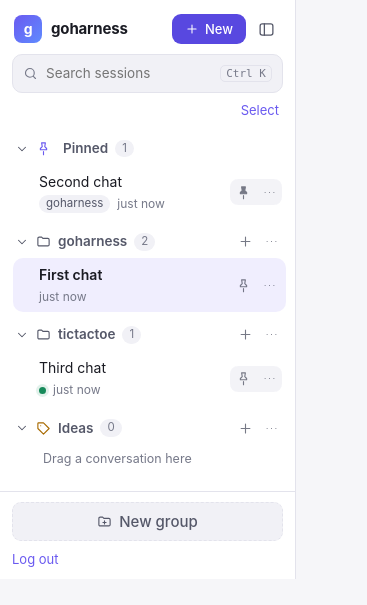
Test: group actions › renames and deletes a group you made, but not a project's
Click the button named "Actions for group Ideas".
click(271, 428)  # box [258,415,284,441]
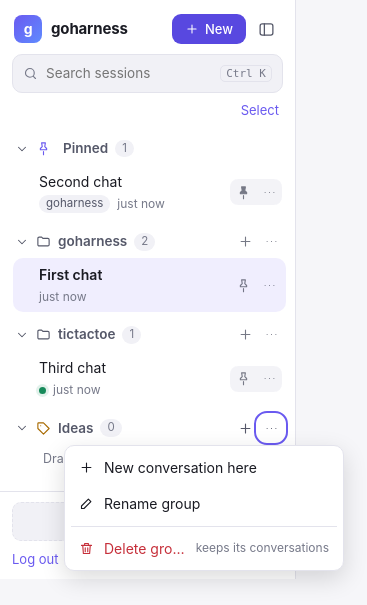
Click the menu item "Rename group".
click(152, 503)  # box [69,486,339,522]
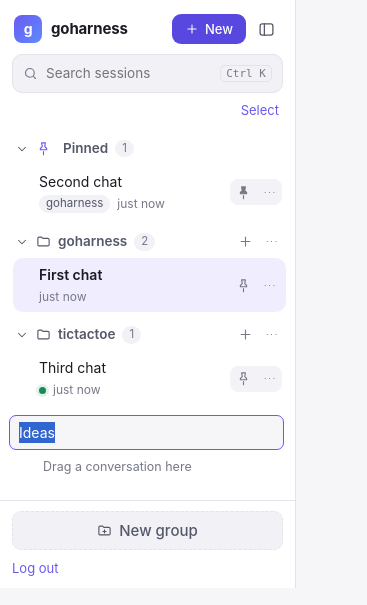
Replace the text in the field named "Group name" with "Plans" at [146, 433], box [9,415,284,450]
Then press Enter
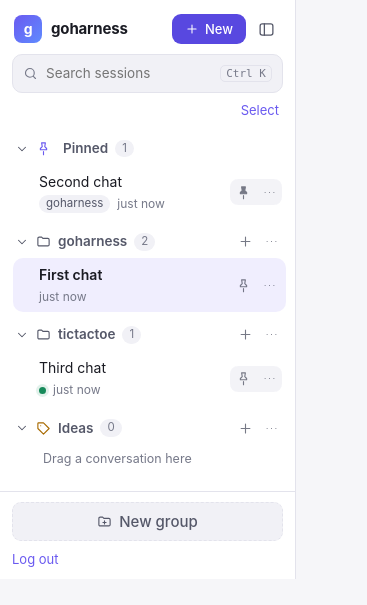
Click the button named "Actions for group Ideas".
click(271, 428)  # box [258,415,284,441]
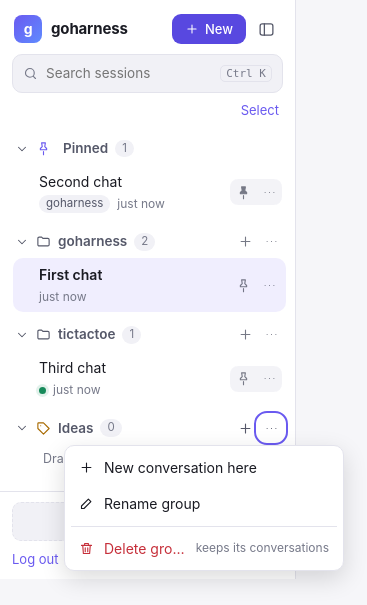
Click the menu item "Delete group keeps its conversations".
click(204, 548)  # box [69,530,339,566]
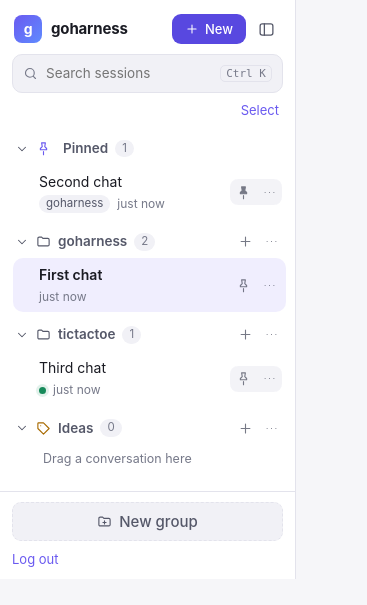
Click the button named "Actions for group tictactoe".
click(271, 335)  # box [258,322,284,348]
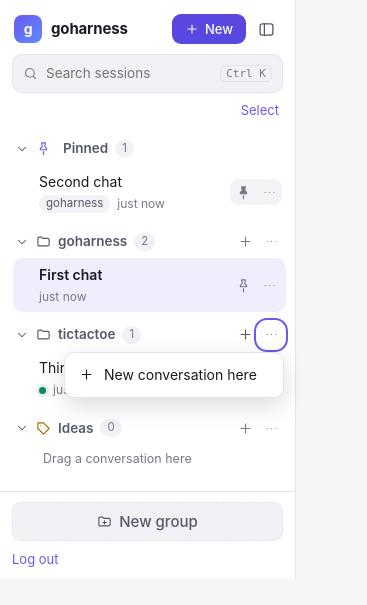
Check: the menu item "Delete group" is not shown
Check: the menu item "New conversation here" is shown, box [69,357,279,393]
